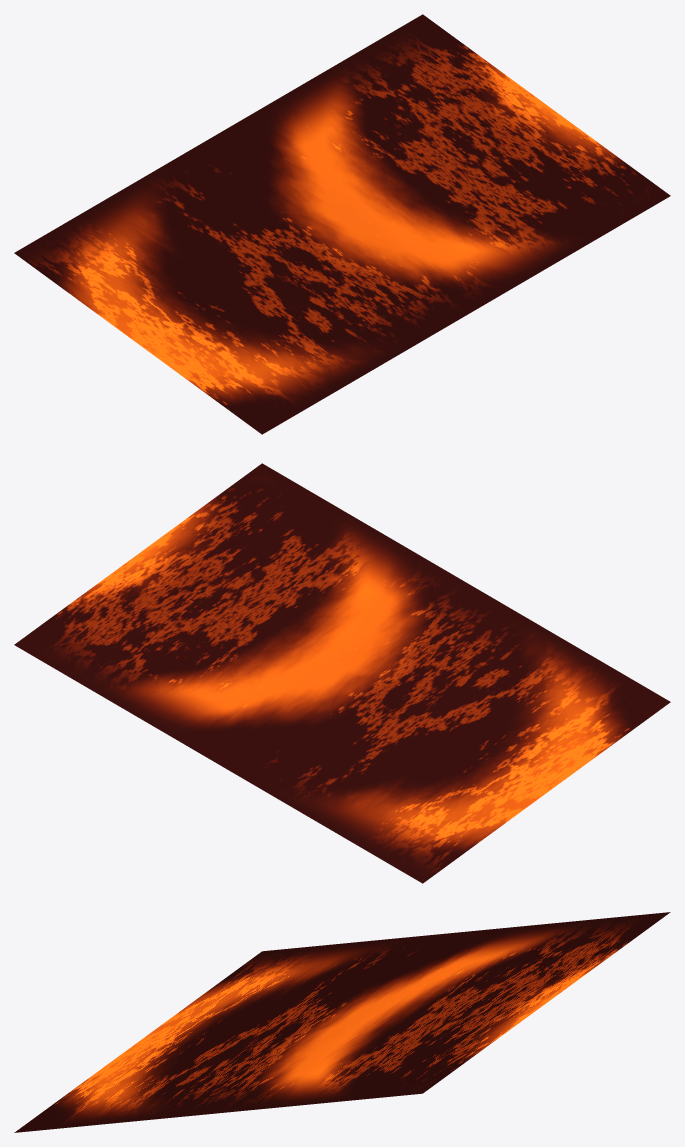
Rendered from ripple_m18.glb.
3 renders of one model, top to bottom at view 1: azimuth 30°, elevation 25°; view 2: azimuth 150°, elevation 25°; view 3: azimuth 330°, elevation 25°, orthographic.
Parts seen in each view (by area): view 1: r; view 2: r; view 3: r.
Part boxes in pixels (x1,y1,x2,y2): r: (14, 14, 670, 434); r: (14, 463, 670, 883); r: (14, 912, 670, 1132).
Size of the model in its own units: 0.9511 by 0.309 by 1.
1 material, 1 textured.
